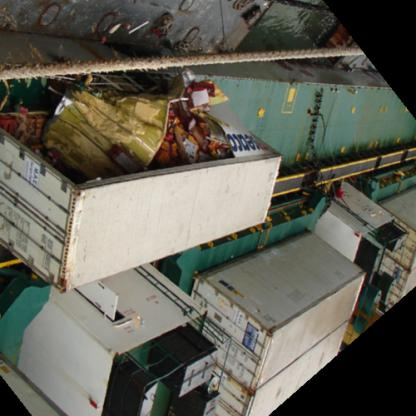Damage: (1, 66, 295, 184)
